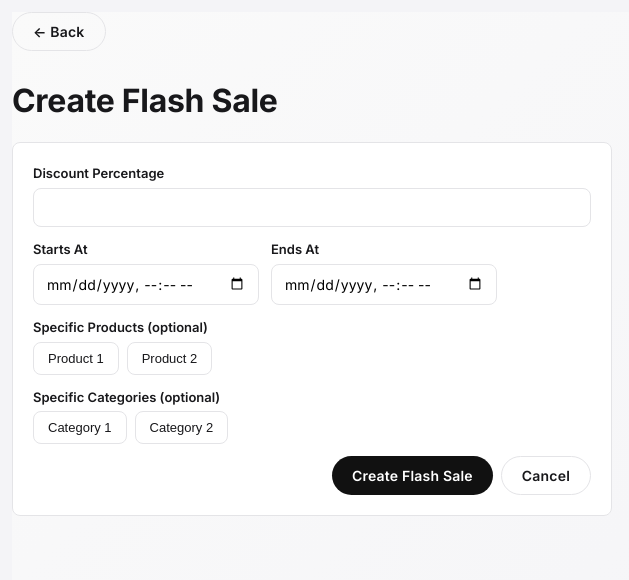
Test: AdminFlashSaleForm › Create Mode › should show error when discount percentage is empty
Click the button "Create Flash Sale": (412, 476) [332,456,493,495]
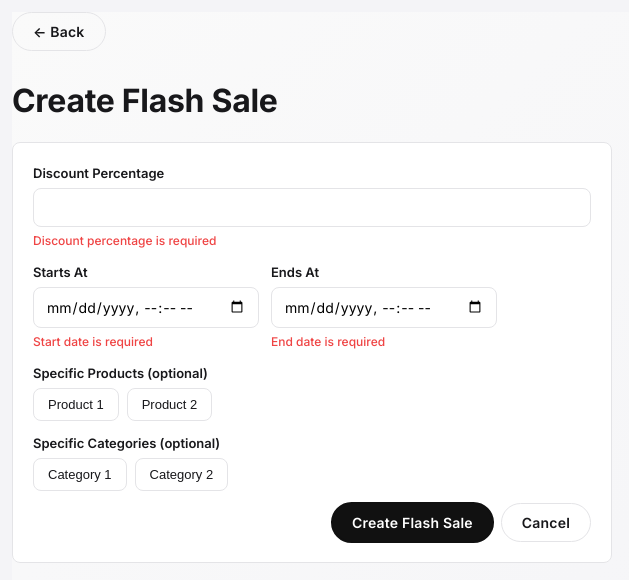
expect the text "Discount percentage is required" is shown: met, box [33,233,216,248]
